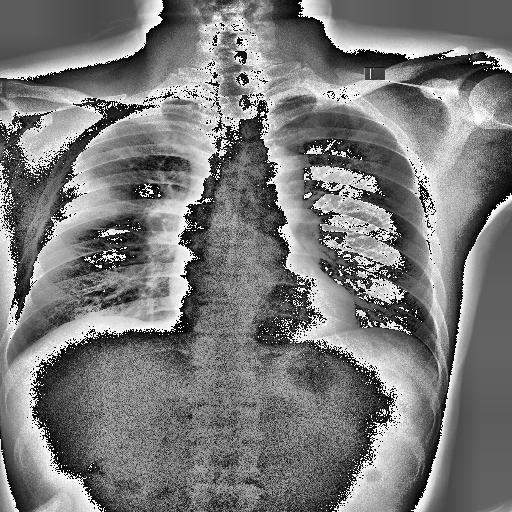0- Aortic enlargement: (248, 144, 306, 226)
4- Consolidation: (52, 170, 124, 224)
8- Nodule-Mass: (46, 173, 133, 225), (52, 177, 120, 228)
